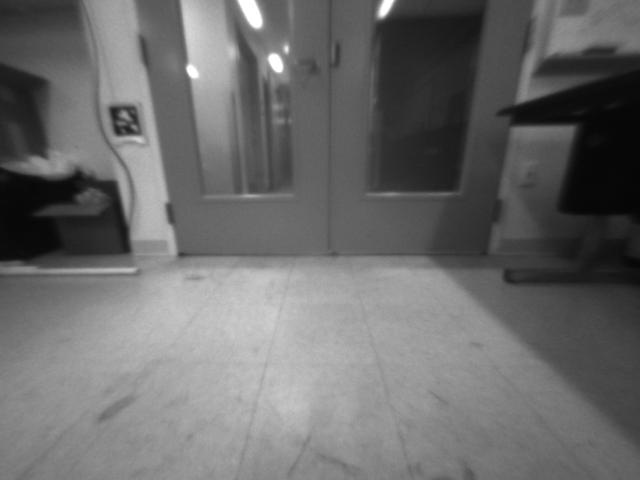door_handle: (287, 53, 320, 72)
